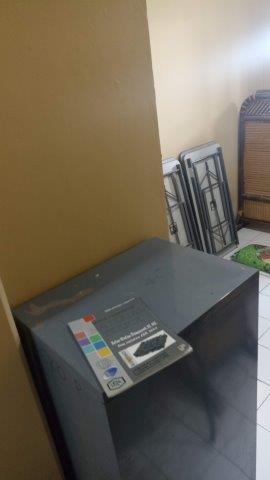kertas: (70, 295, 193, 402)
